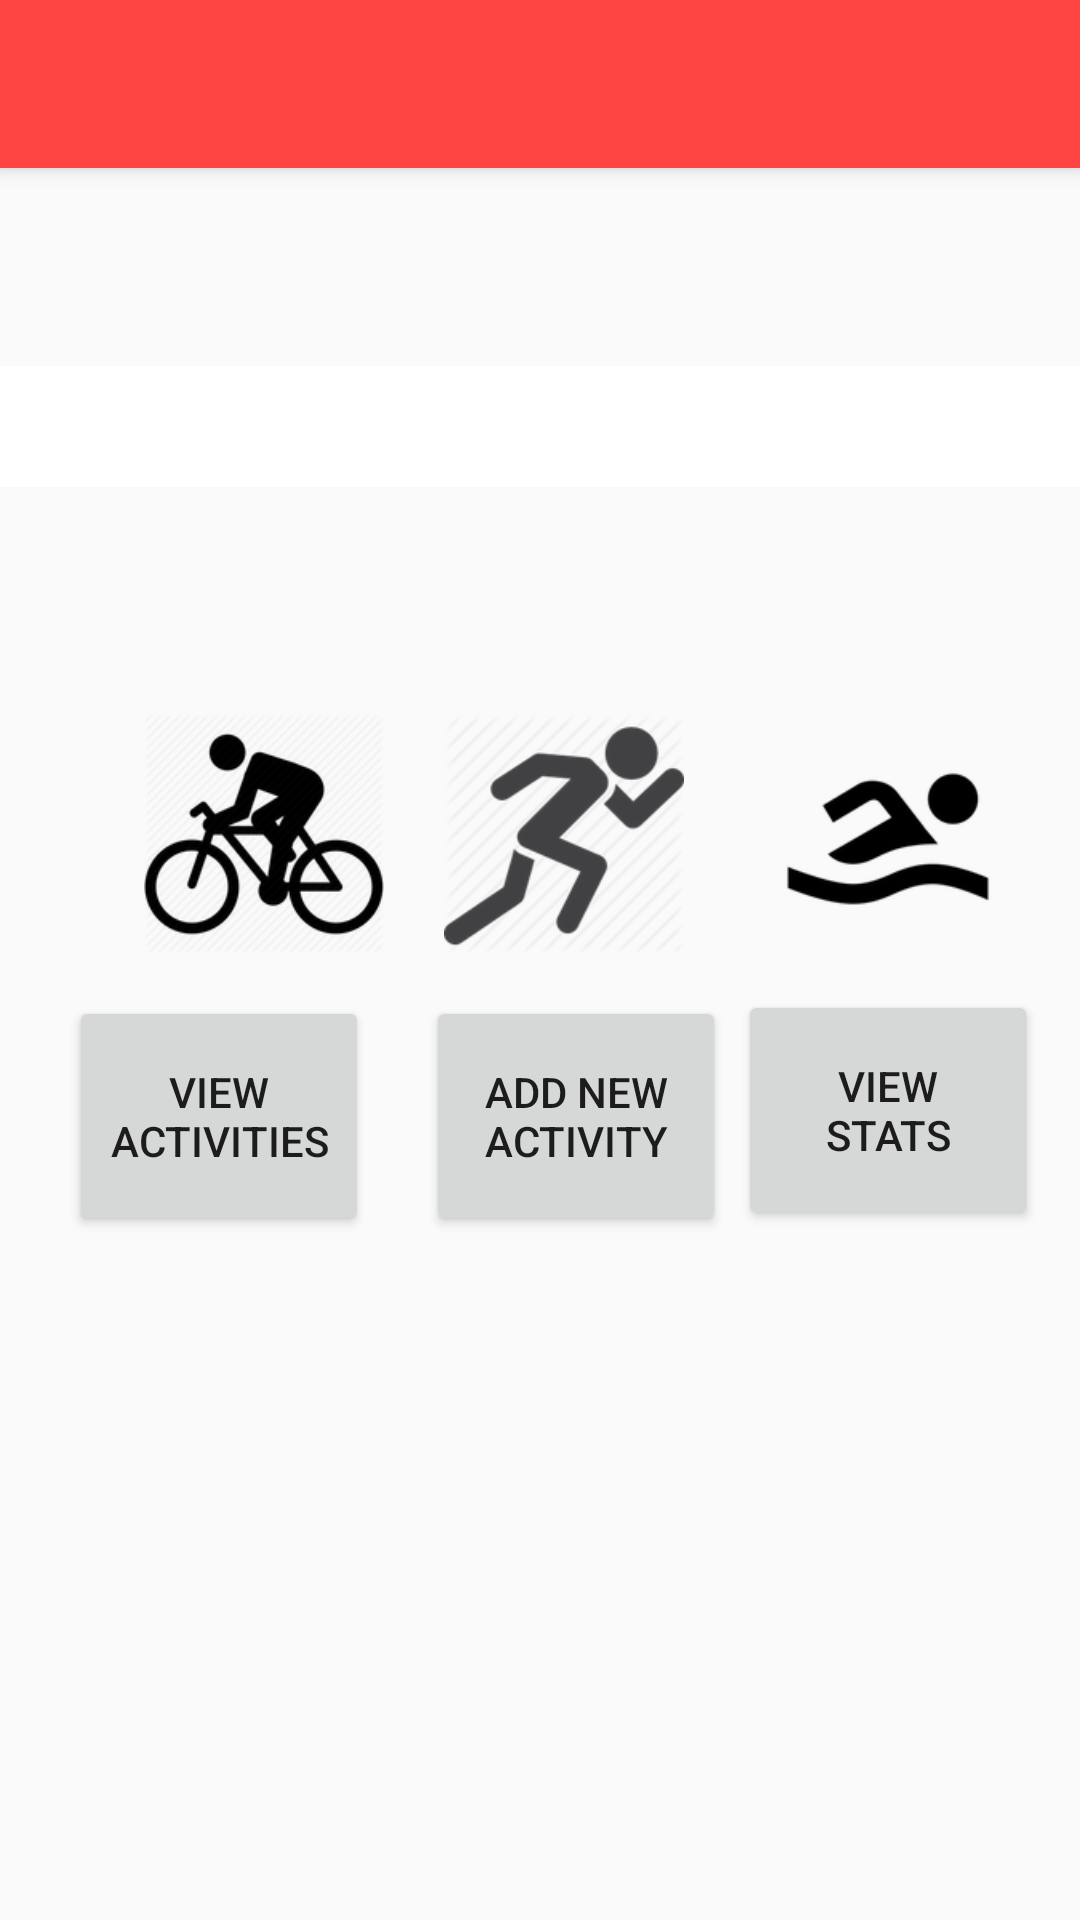

Icons on this 1080px x 1920px Android screen, each with the point to tap as (x=x, y=y):
road bike: (x=264, y=834)
running: (x=564, y=836)
swimming: (x=888, y=839)
